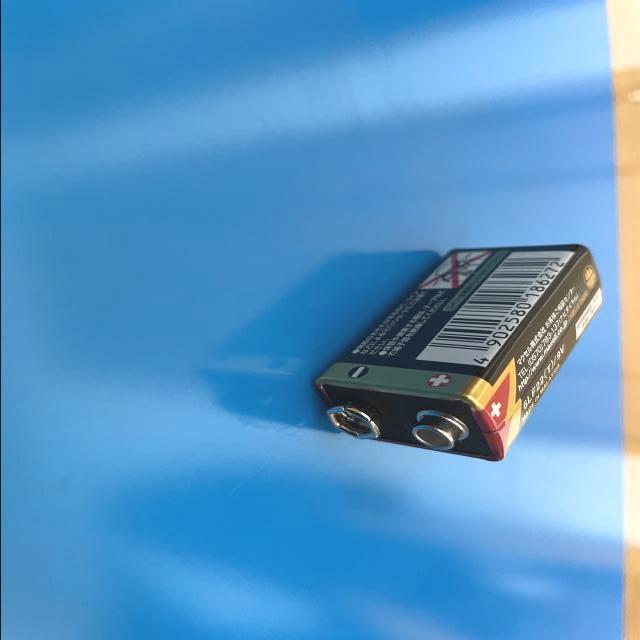9V: (308, 242, 604, 462)
